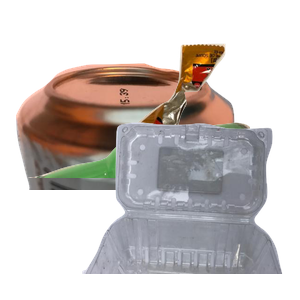glass: (23, 120, 263, 300)
metal: (13, 61, 240, 241)
plastic: (80, 120, 300, 300)
trash: (122, 41, 300, 190)
